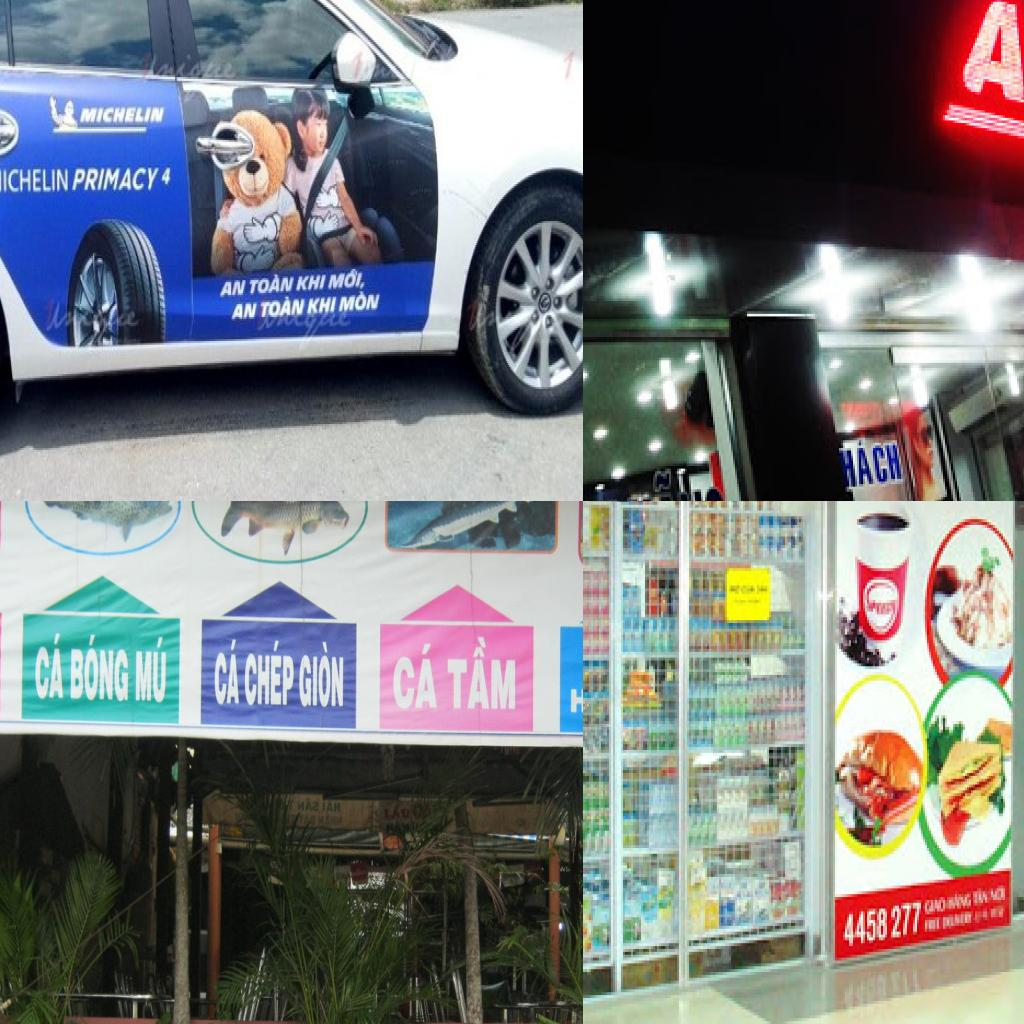text: (955, 0, 1024, 122), (443, 634, 519, 716), (67, 630, 133, 706), (837, 432, 905, 494), (242, 636, 296, 712), (843, 900, 925, 949), (389, 638, 440, 714), (297, 639, 346, 712), (74, 164, 164, 195), (134, 633, 168, 705), (79, 103, 163, 131), (34, 631, 66, 702), (0, 165, 70, 195), (213, 636, 241, 708), (260, 291, 310, 326), (328, 265, 376, 293), (248, 271, 296, 298), (292, 269, 328, 295), (220, 273, 252, 300), (308, 293, 340, 317), (381, 800, 411, 822), (232, 300, 261, 322), (568, 686, 583, 716), (160, 162, 174, 192)
